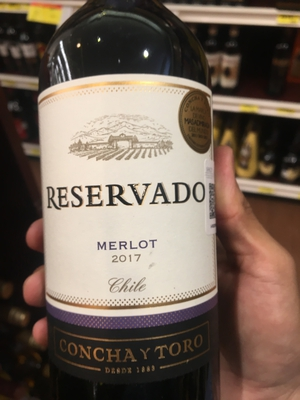reservado merlot: (29, 25, 236, 400)
